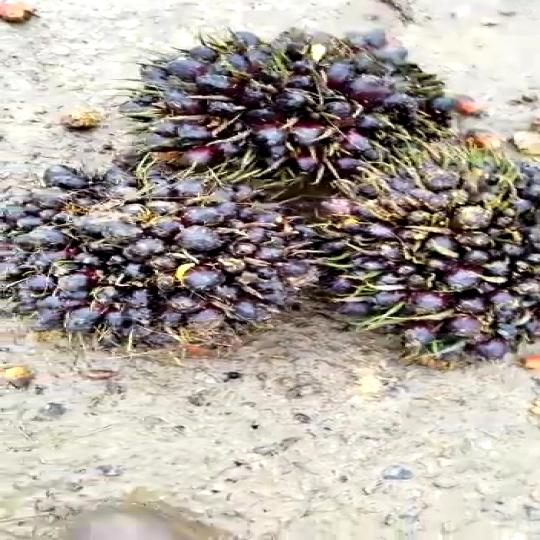mentah: (0, 146, 328, 393), (289, 135, 540, 384), (136, 29, 444, 194)
